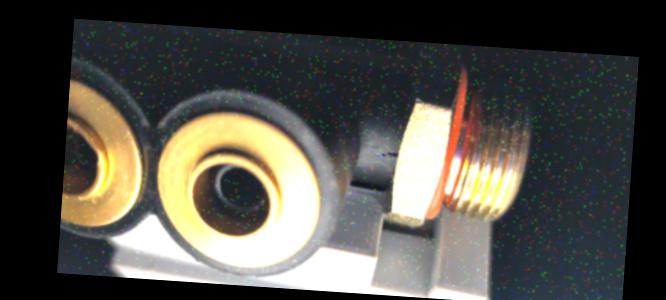craze: (376, 149, 399, 167)
joint line: (357, 139, 389, 151)
